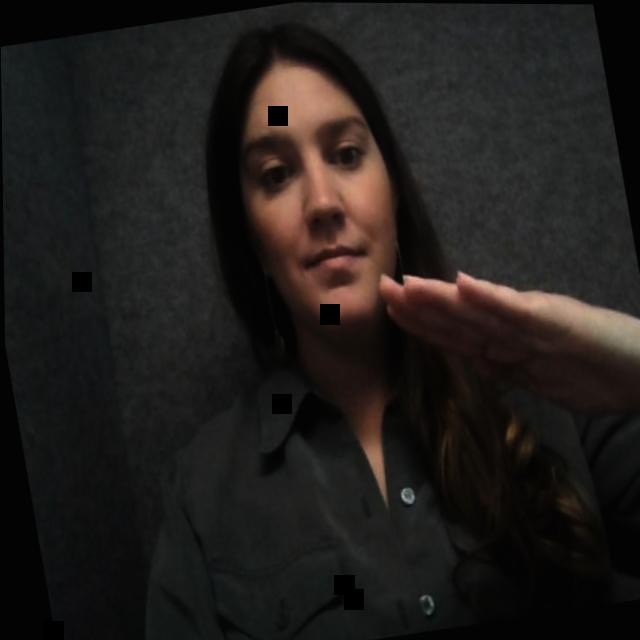Rock: (359, 207, 640, 487)
